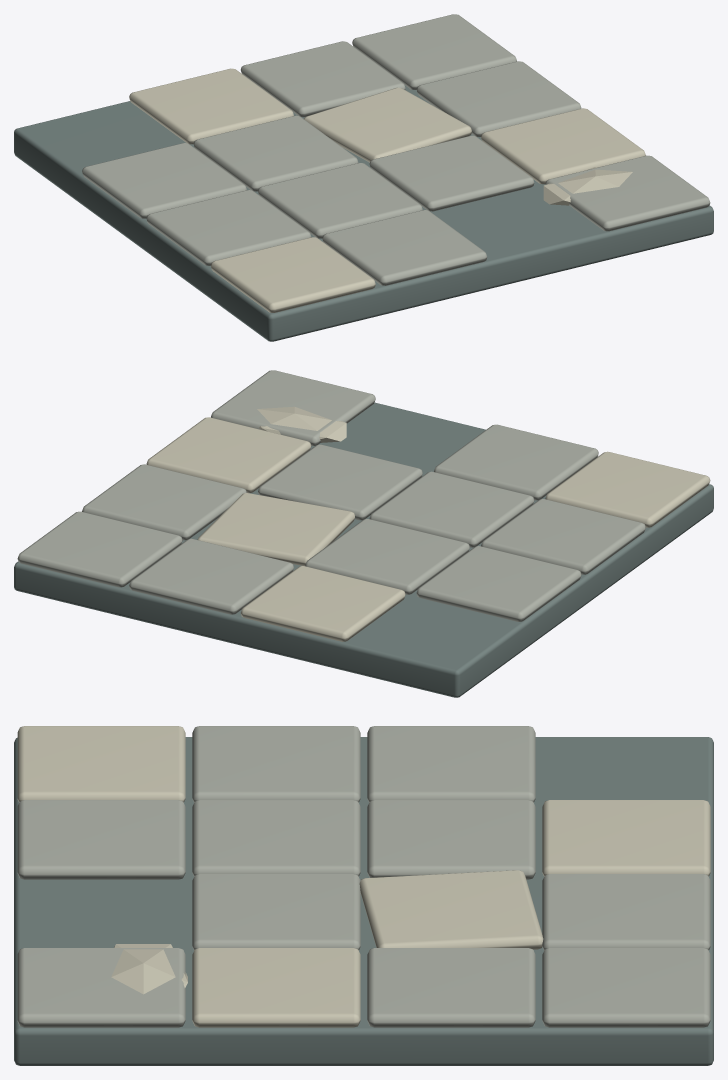
Rendered from SM_Floor_Stone_Damaged_4m.fbx.
The picture shows the model from 3 angles, top to bottom: view 1: azimuth 30°, elevation 25°; view 2: azimuth 150°, elevation 25°; view 3: azimuth 270°, elevation 25°; orthographic projection. The views are drawn at different scales.
Parts seen in each view (by area): view 1: SM_Floor_Stone_Damaged_4m; view 2: SM_Floor_Stone_Damaged_4m; view 3: SM_Floor_Stone_Damaged_4m.
Boxes of the visible parts, bbox=[...] form: SM_Floor_Stone_Damaged_4m: bbox=[14, 14, 713, 341]; SM_Floor_Stone_Damaged_4m: bbox=[14, 370, 713, 697]; SM_Floor_Stone_Damaged_4m: bbox=[14, 726, 713, 1065].
Size of the model in its own units: 4 by 0.36 by 4.
